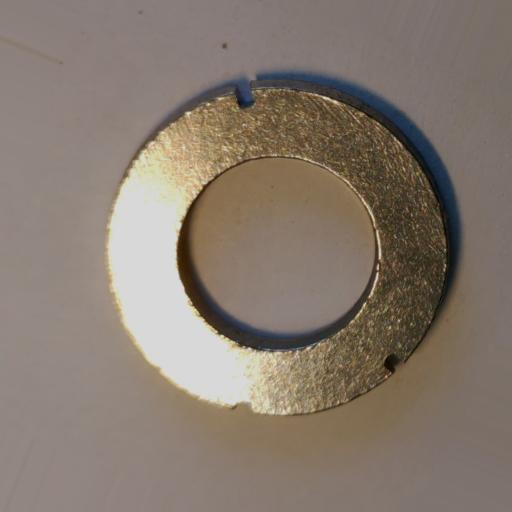burr: (233, 80, 255, 109), (382, 351, 406, 374), (232, 400, 254, 414)
